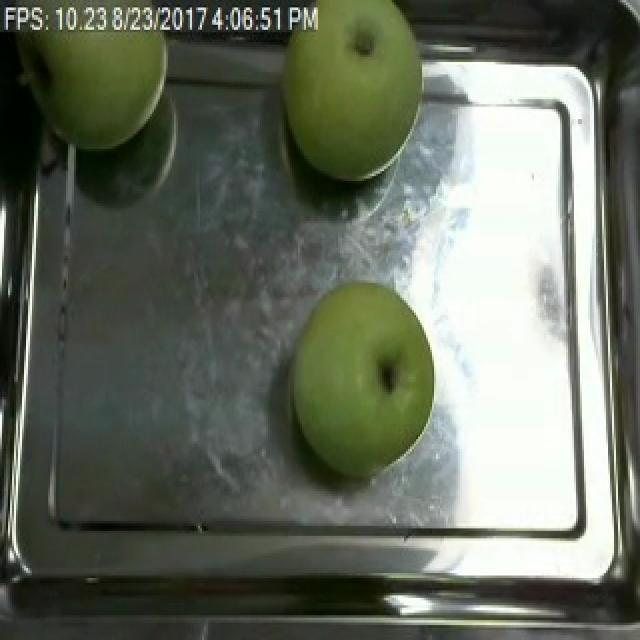apple: (291, 281, 433, 479), (284, 0, 422, 181), (8, 0, 168, 151)
